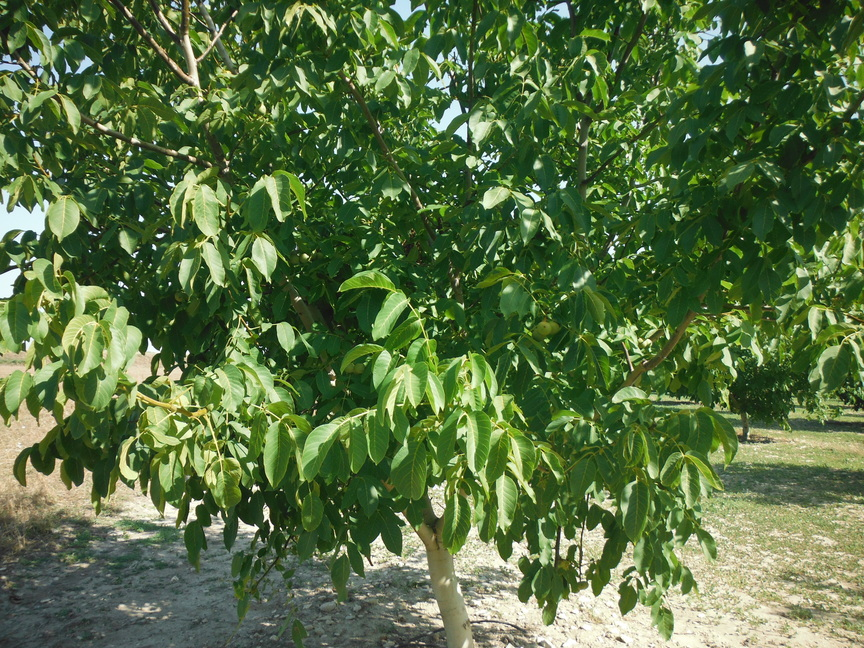walnut: (536, 319, 553, 337), (341, 359, 357, 376), (548, 319, 563, 337), (173, 289, 189, 304), (254, 102, 268, 119), (633, 335, 648, 350), (299, 250, 312, 267), (531, 326, 543, 343), (288, 252, 301, 266), (313, 249, 327, 262), (354, 363, 368, 375), (577, 580, 586, 594), (582, 579, 591, 591), (645, 337, 652, 350)
